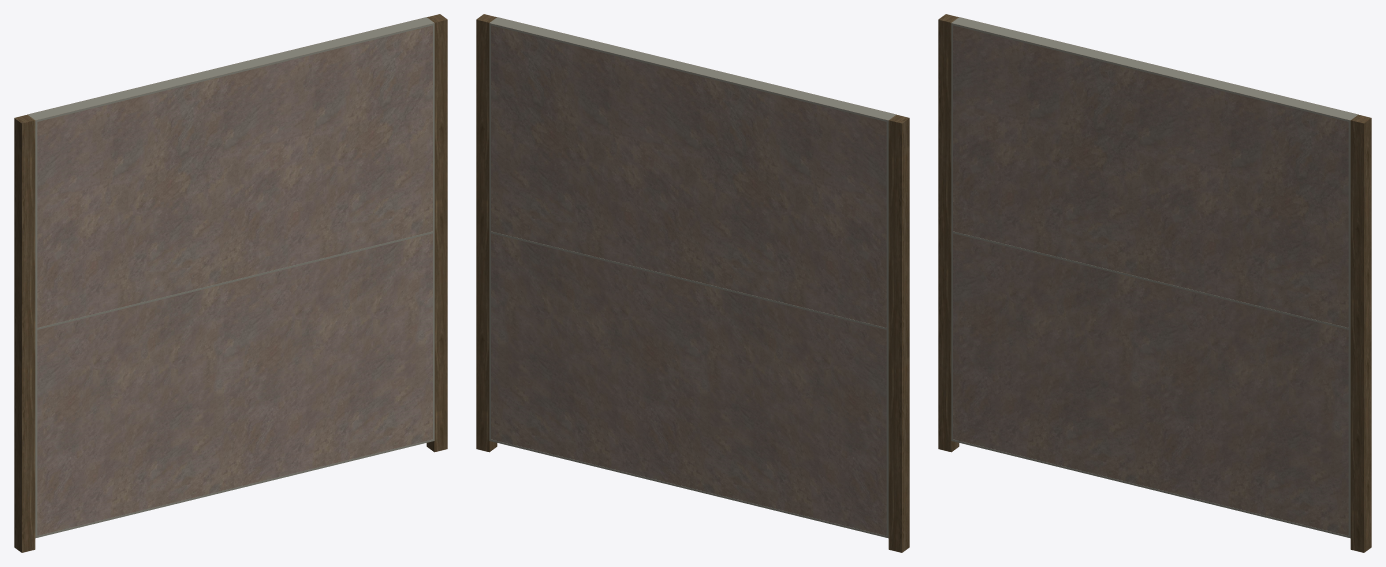
The model's file is ABF3-H1800_slate.fbx.
The picture shows the model from 3 angles, left to right: view 1: azimuth 30°, elevation 25°; view 2: azimuth 150°, elevation 25°; view 3: azimuth 330°, elevation 25°; orthographic projection.
Visible parts, largest first — view 1: 1850-1920-60_Slate; view 2: 1850-1920-60_Slate; view 3: 1850-1920-60_Slate.
Part boxes in pixels (<box>): 1850-1920-60_Slate: <box>14,14,447,552</box>; 1850-1920-60_Slate: <box>476,14,909,552</box>; 1850-1920-60_Slate: <box>938,14,1371,552</box>.
Bounding box in the file's own units: 192 × 185 × 6.4.
5 materials, 4 textured.
